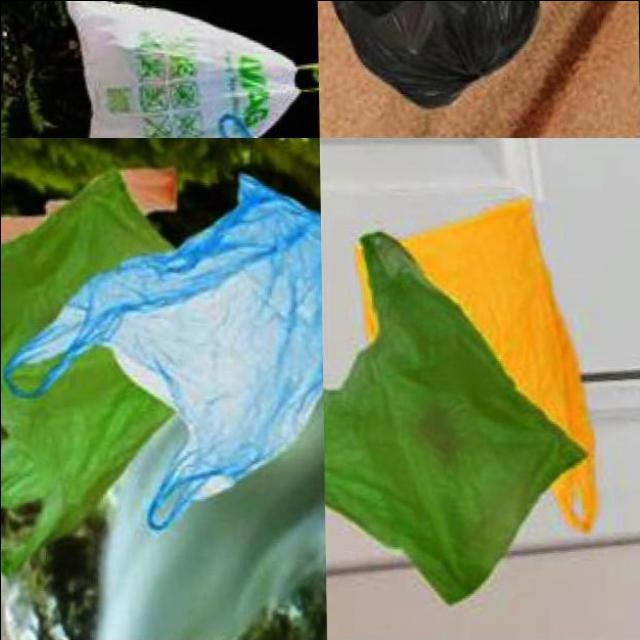plastik: (3, 174, 321, 532), (324, 233, 583, 604), (0, 171, 170, 576), (402, 199, 596, 532), (65, 0, 298, 136), (331, 0, 536, 108)
